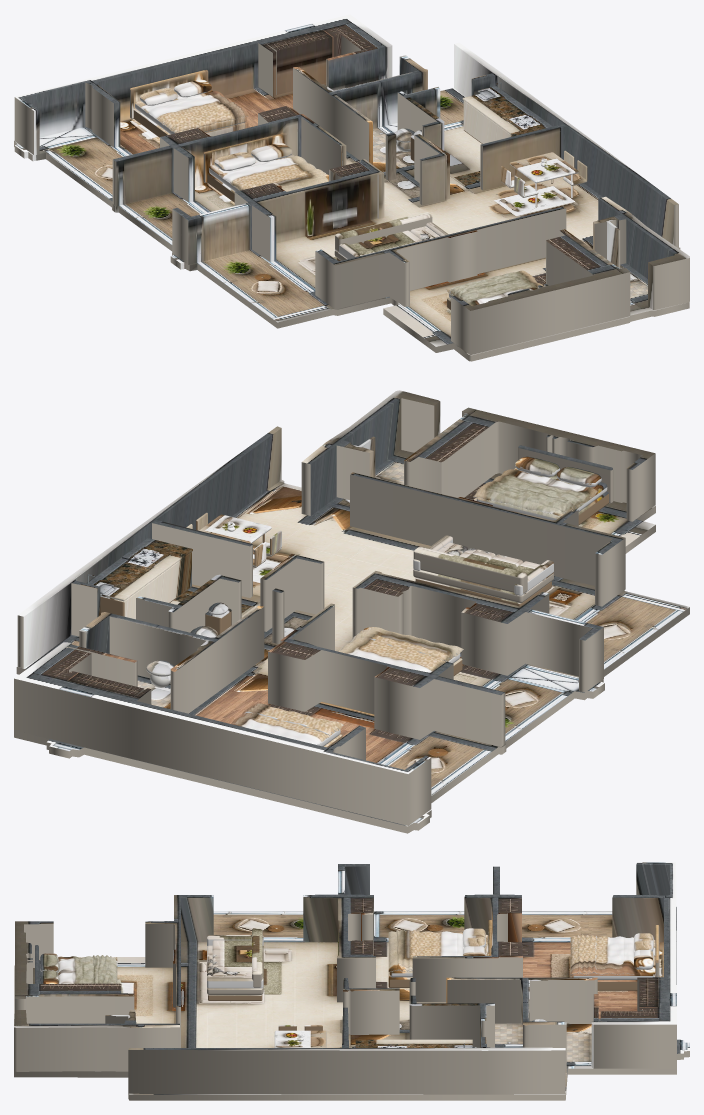
Rendered from p8-02-u02-2112-image-model.glb.
3 renders of one model, top to bottom at view 1: azimuth 30°, elevation 25°; view 2: azimuth 150°, elevation 25°; view 3: azimuth 270°, elevation 25°, orthographic. The views are drawn at different scales.
Parts seen in each view (by area): view 1: Partition walls, Apartment floor, Draped bed linen, Draped bed linen.002, Stone worktop, Sofa back, Marble dining top, Kitchen cabinets, Draped bed linen.004, Upholstered headboard.001, Upholstered headboard, Draped bed linen.001 (+6 smaller); view 2: Partition walls, Apartment floor, Stone worktop, Sofa back, Draped bed linen.004, Kitchen cabinets, Draped bed linen.002, Draped bed linen, Draped bed linen.003, Upholstered sofa frame, Upholstered headboard.002, Marble dining top (+5 smaller); view 3: Partition walls, Apartment floor, Draped bed linen, Draped bed linen.002, Draped bed linen.004, Stone worktop, Marble dining top, Draped bed linen.003, Draped bed linen.001, Upholstered sofa frame, Piped mattress, Padded armrest.001 (+7 smaller).
Part boxes in pixels (x1,y1,x2,y2): Partition walls: (14, 14, 689, 354); Apartment floor: (14, 83, 689, 361); Draped bed linen: (143, 91, 249, 132); Draped bed linen.002: (219, 155, 328, 191); Stone worktop: (462, 89, 552, 136); Sofa back: (335, 212, 432, 251); Marble dining top: (509, 152, 578, 183); Kitchen cabinets: (463, 100, 512, 143); Draped bed linen.004: (446, 273, 543, 305); Upholstered headboard.001: (203, 132, 287, 182); Upholstered headboard: (130, 70, 208, 118); Draped bed linen.001: (162, 102, 246, 129); Partition walls: (14, 390, 655, 825); Apartment floor: (14, 450, 689, 833); Stone worktop: (86, 538, 192, 601); Sofa back: (413, 547, 527, 593); Draped bed linen.004: (473, 469, 598, 516); Kitchen cabinets: (100, 552, 191, 619); Draped bed linen.002: (338, 627, 463, 672); Draped bed linen: (231, 704, 343, 744); Draped bed linen.003: (353, 627, 459, 661); Upholstered sofa frame: (413, 569, 553, 603); Upholstered headboard.002: (518, 445, 613, 503); Marble dining top: (199, 514, 271, 543); Partition walls: (14, 862, 676, 1094); Apartment floor: (14, 906, 689, 1100); Draped bed linen: (570, 936, 634, 974); Draped bed linen.002: (388, 931, 463, 972); Draped bed linen.004: (58, 956, 117, 983); Stone worktop: (355, 1039, 472, 1047); Marble dining top: (274, 1030, 326, 1047); Draped bed linen.003: (396, 929, 419, 970); Draped bed linen.001: (577, 934, 596, 973); Upholstered sofa frame: (207, 945, 263, 994); Piped mattress: (571, 940, 655, 979); Padded armrest.001: (207, 976, 263, 988).
Bounding box in the file's own units: 10.65 × 1.3 × 15.94.
Materials: 14 (3 with a texture image).
